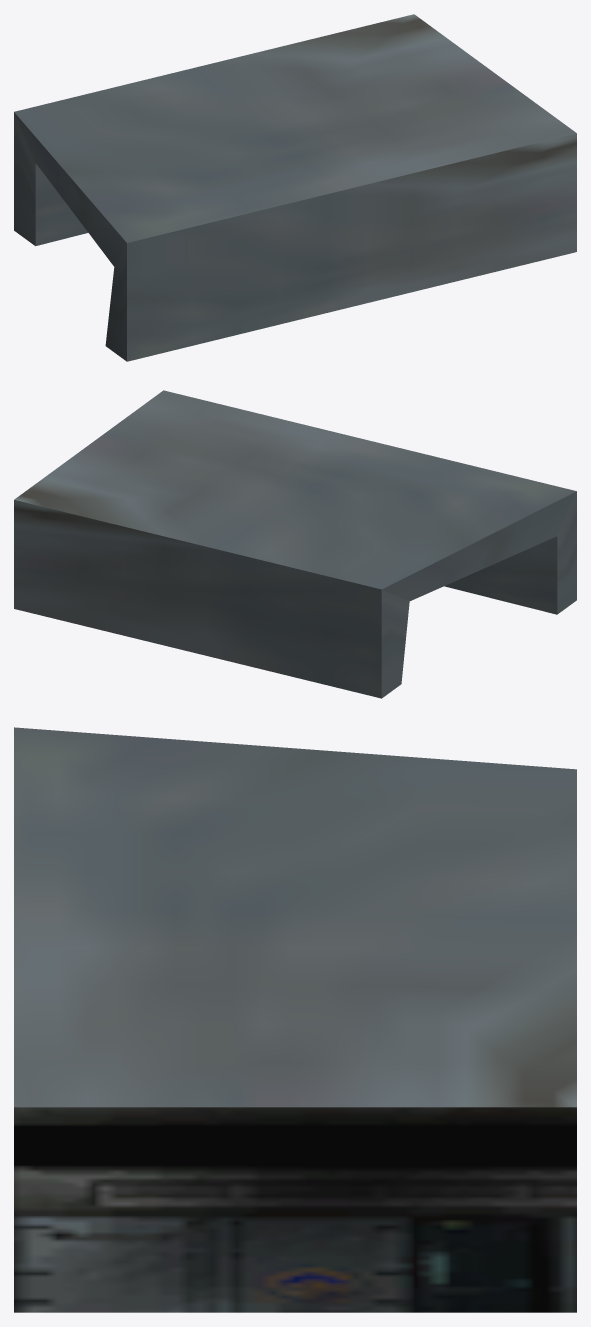
File: Shared - Armor - Tanker Truck - Damage State 20 - CVTanker_d20.glb
3 renders of one model, top to bottom at view 1: azimuth 30°, elevation 25°; view 2: azimuth 150°, elevation 25°; view 3: azimuth 270°, elevation 25°, orthographic. The views are drawn at different scales.
Parts seen in each view (by area): view 1: CVTANKER_D20; view 2: CVTANKER_D20; view 3: CVTANKER_D20.
Boxes of the visible parts, bbox=[...] form: CVTANKER_D20: bbox=[14, 14, 576, 361]; CVTANKER_D20: bbox=[14, 390, 576, 698]; CVTANKER_D20: bbox=[14, 727, 576, 1312].
Size of the model in its own units: 7.74 by 1.95 by 4.85.
Materials: 1 (1 with a texture image).
